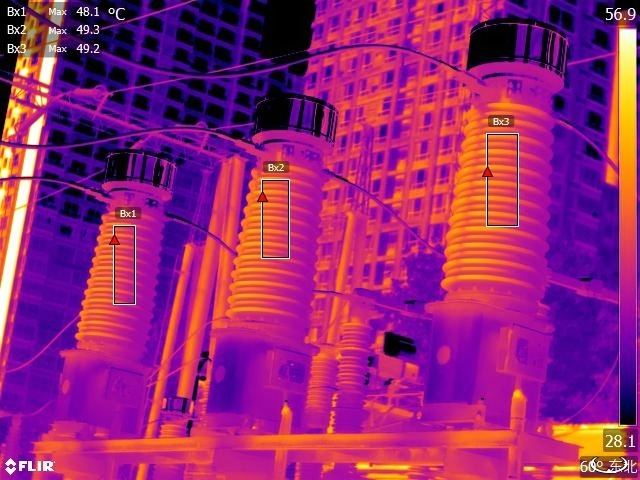current transformer: (423, 12, 572, 415), (205, 88, 343, 419), (51, 132, 185, 431), (149, 395, 196, 480)
post insulator: (337, 315, 380, 406), (304, 342, 339, 435)
switch: (344, 282, 430, 334)
